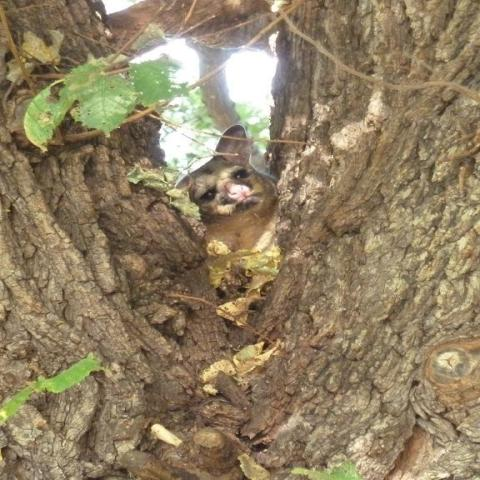small_animal: (174, 123, 282, 295)
